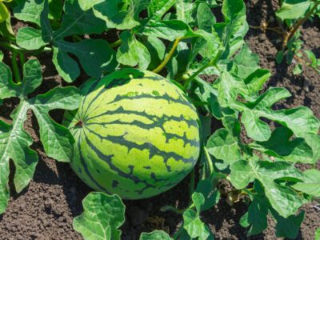dua_hau: (61, 65, 205, 199)
